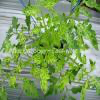Tomato leaf yellow virus: (80, 21, 98, 51), (22, 76, 40, 99), (52, 23, 69, 45), (53, 74, 72, 92), (22, 2, 40, 19), (40, 66, 49, 94), (55, 54, 66, 74), (79, 79, 90, 99), (1, 35, 13, 53), (42, 0, 62, 10), (77, 7, 93, 19), (87, 58, 98, 74), (17, 32, 27, 49), (29, 66, 41, 79), (9, 76, 19, 90), (65, 30, 73, 47), (4, 54, 12, 69), (33, 54, 44, 64), (46, 54, 57, 64), (31, 26, 41, 36), (17, 58, 23, 73), (81, 55, 87, 67)
